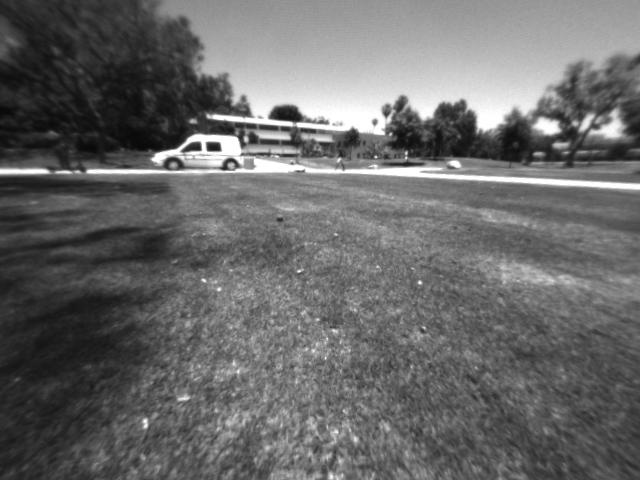dogtoy: (270, 209, 289, 224)
